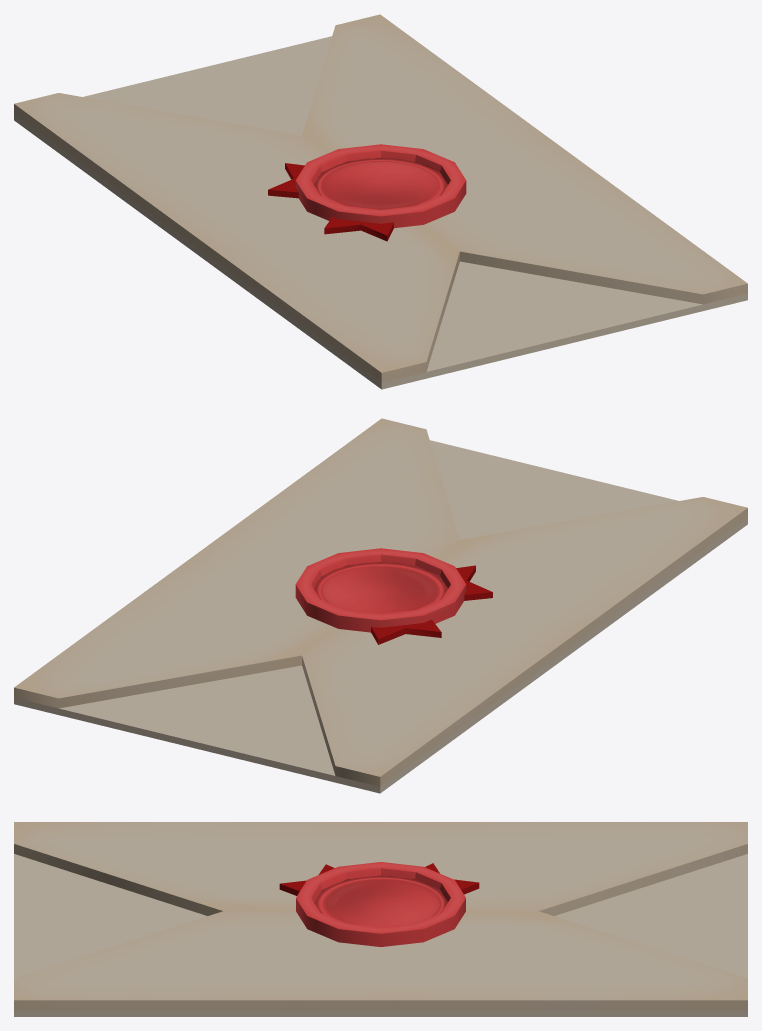
Rendered from Envelope.fbx.
3 views of the same model, one above another, from view 1: azimuth 30°, elevation 25°; view 2: azimuth 150°, elevation 25°; view 3: azimuth 270°, elevation 25° (orthographic).
Parts seen in each view (by area): view 1: Box004, Box003, Box002, Cylinder001, Box006; view 2: Box004, Box003, Box002, Cylinder001, Box006; view 3: Box003, Box004, Box002, Cylinder001, Box006.
Part boxes in pixels (left/top/right/bottom): Box004: left=14, top=93, right=459, bottom=382; Box003: left=302, top=14, right=747, bottom=304; Box002: left=14, top=36, right=747, bottom=389; Cylinder001: left=295, top=144, right=466, bottom=228; Box006: left=268, top=163, right=393, bottom=241; Box004: left=302, top=497, right=747, bottom=786; Box003: left=14, top=418, right=459, bottom=708; Box002: left=14, top=440, right=747, bottom=793; Cylinder001: left=295, top=548, right=466, bottom=632; Box006: left=371, top=565, right=492, bottom=644; Box003: left=14, top=911, right=747, bottom=1010; Box004: left=14, top=822, right=747, bottom=915; Box002: left=14, top=854, right=747, bottom=1016; Cylinder001: left=296, top=862, right=465, bottom=946; Box006: left=279, top=863, right=479, bottom=895.
Bounding box in the file's own units: 23 × 1.8 × 40.
Materials: 4 (3 with a texture image).
